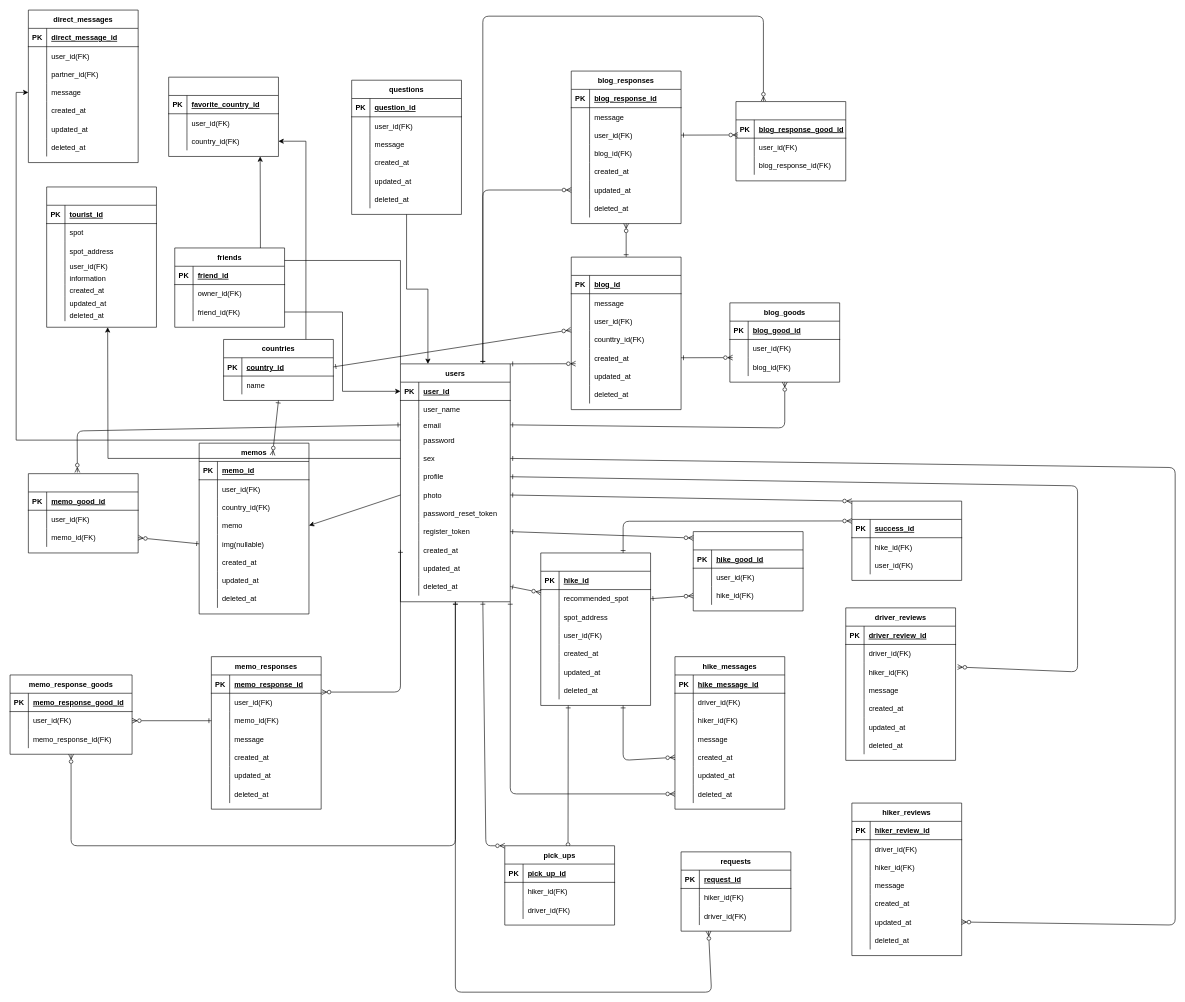
Image size: 1185x1002. Some labels were removed from this diagram. Each missing label, with the box of its shape:
blog_response_goods: (735, 101, 846, 181)
blogs: (571, 257, 681, 410)
favorite_countries: (168, 77, 278, 156)
hike_goods: (693, 531, 803, 611)
hikes: (540, 552, 651, 705)
memo_goods: (28, 473, 138, 553)
successes: (851, 501, 962, 580)
tourists: (46, 186, 156, 327)
